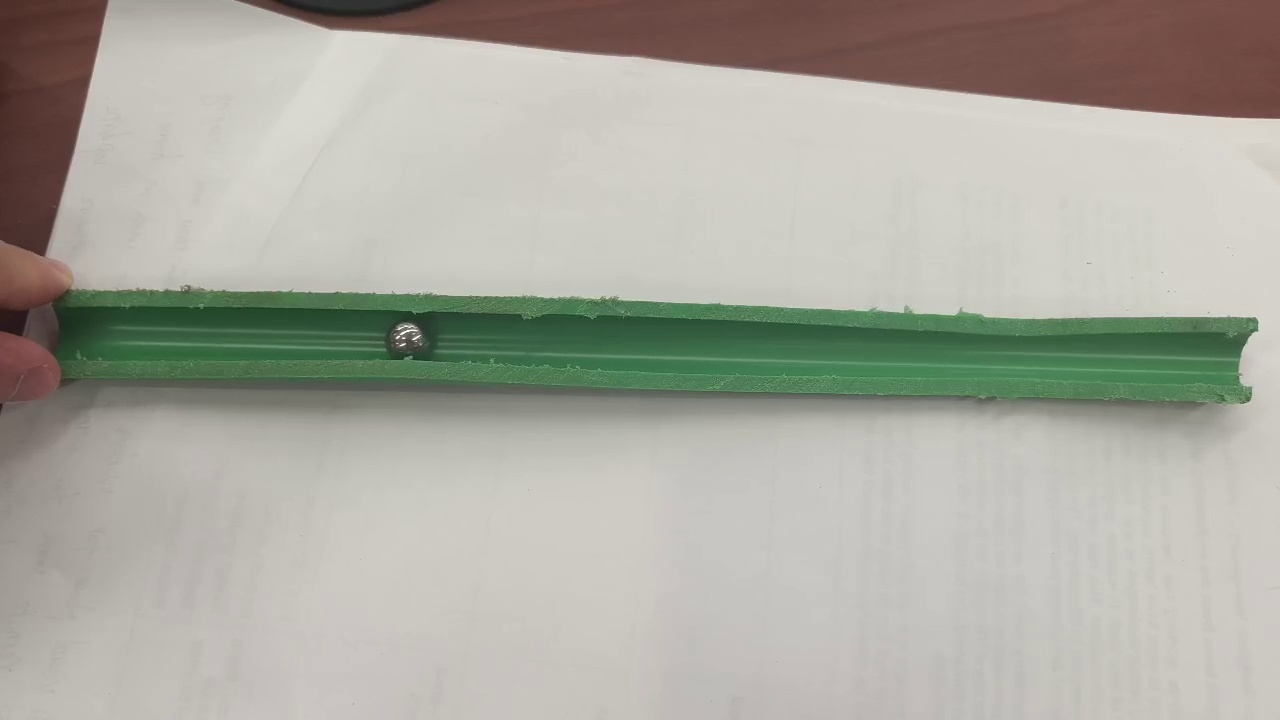ball: (390, 322, 425, 351)
